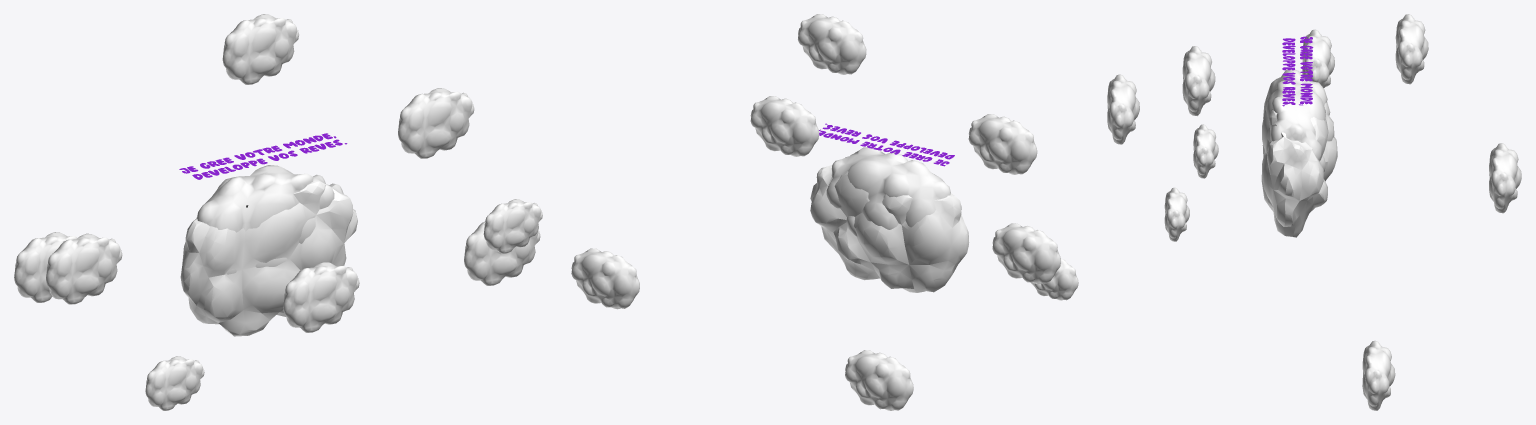
Rendered from Carte.gltf.
3 views of the same model, side by side, from view 1: azimuth 30°, elevation 25°; view 2: azimuth 150°, elevation 25°; view 3: azimuth 270°, elevation 25° (orthographic). The views are drawn at different scales.
Visible parts, largest first — view 1: Boolean, Object_3 2, Object_3.002, Object_3.004, Object_3.006, Object_3.007, Object_3.003, Object_3.001, Object_3, Object_3.005, Texte; view 2: Boolean, Object_3 2, Object_3.005, Object_3.007, Object_3.004, Object_3.003, Object_3.006, Object_3.002, Texte, Object_3.001; view 3: Boolean, Object_3 2, Object_3.004, Object_3.007, Object_3.006, Object_3.005, Object_3.003, Texte, Object_3.002, Object_3.001, Object_3.
Boxes of the visible parts, left/top/right/bottom form: Boolean: left=180, top=181, right=357, bottom=336; Object_3 2: left=196, top=165, right=334, bottom=274; Object_3.002: left=46, top=233, right=122, bottom=304; Object_3.004: left=283, top=262, right=359, bottom=332; Object_3.006: left=398, top=88, right=474, bottom=158; Object_3.007: left=222, top=14, right=298, bottom=84; Object_3.003: left=464, top=221, right=540, bottom=285; Object_3.001: left=145, top=356, right=204, bottom=410; Object_3: left=483, top=199, right=542, bottom=253; Object_3.005: left=14, top=232, right=77, bottom=302; Texte: left=179, top=133, right=347, bottom=179; Boolean: left=810, top=152, right=969, bottom=292; Object_3 2: left=826, top=147, right=950, bottom=236; Object_3.005: left=845, top=350, right=913, bottom=410; Object_3.007: left=750, top=96, right=819, bottom=156; Object_3.004: left=968, top=114, right=1037, bottom=174; Object_3.003: left=571, top=248, right=639, bottom=309; Object_3.006: left=798, top=14, right=866, bottom=74; Object_3.002: left=992, top=223, right=1060, bottom=283; Texte: left=819, top=123, right=954, bottom=166; Object_3.001: left=1030, top=259, right=1078, bottom=300; Boolean: left=1261, top=94, right=1337, bottom=237; Object_3 2: left=1265, top=69, right=1334, bottom=171; Object_3.004: left=1107, top=74, right=1139, bottom=144; Object_3.007: left=1395, top=14, right=1428, bottom=84; Object_3.006: left=1182, top=46, right=1215, bottom=116; Object_3.005: left=1489, top=143, right=1521, bottom=213; Object_3.003: left=1362, top=340, right=1395, bottom=410; Texte: left=1282, top=36, right=1313, bottom=106; Object_3.002: left=1302, top=29, right=1334, bottom=87; Object_3.001: left=1193, top=124, right=1218, bottom=178; Object_3: left=1164, top=187, right=1189, bottom=241.
Bounding box in the file's own units: 66.78 × 37.05 × 49.
